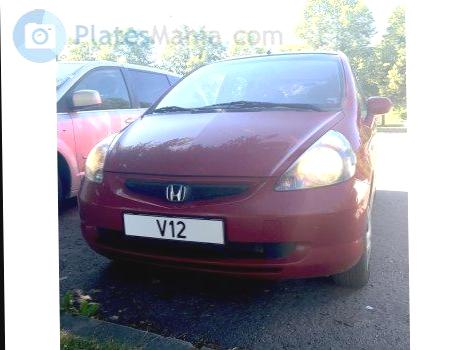License_Plate: (118, 206, 229, 252)
